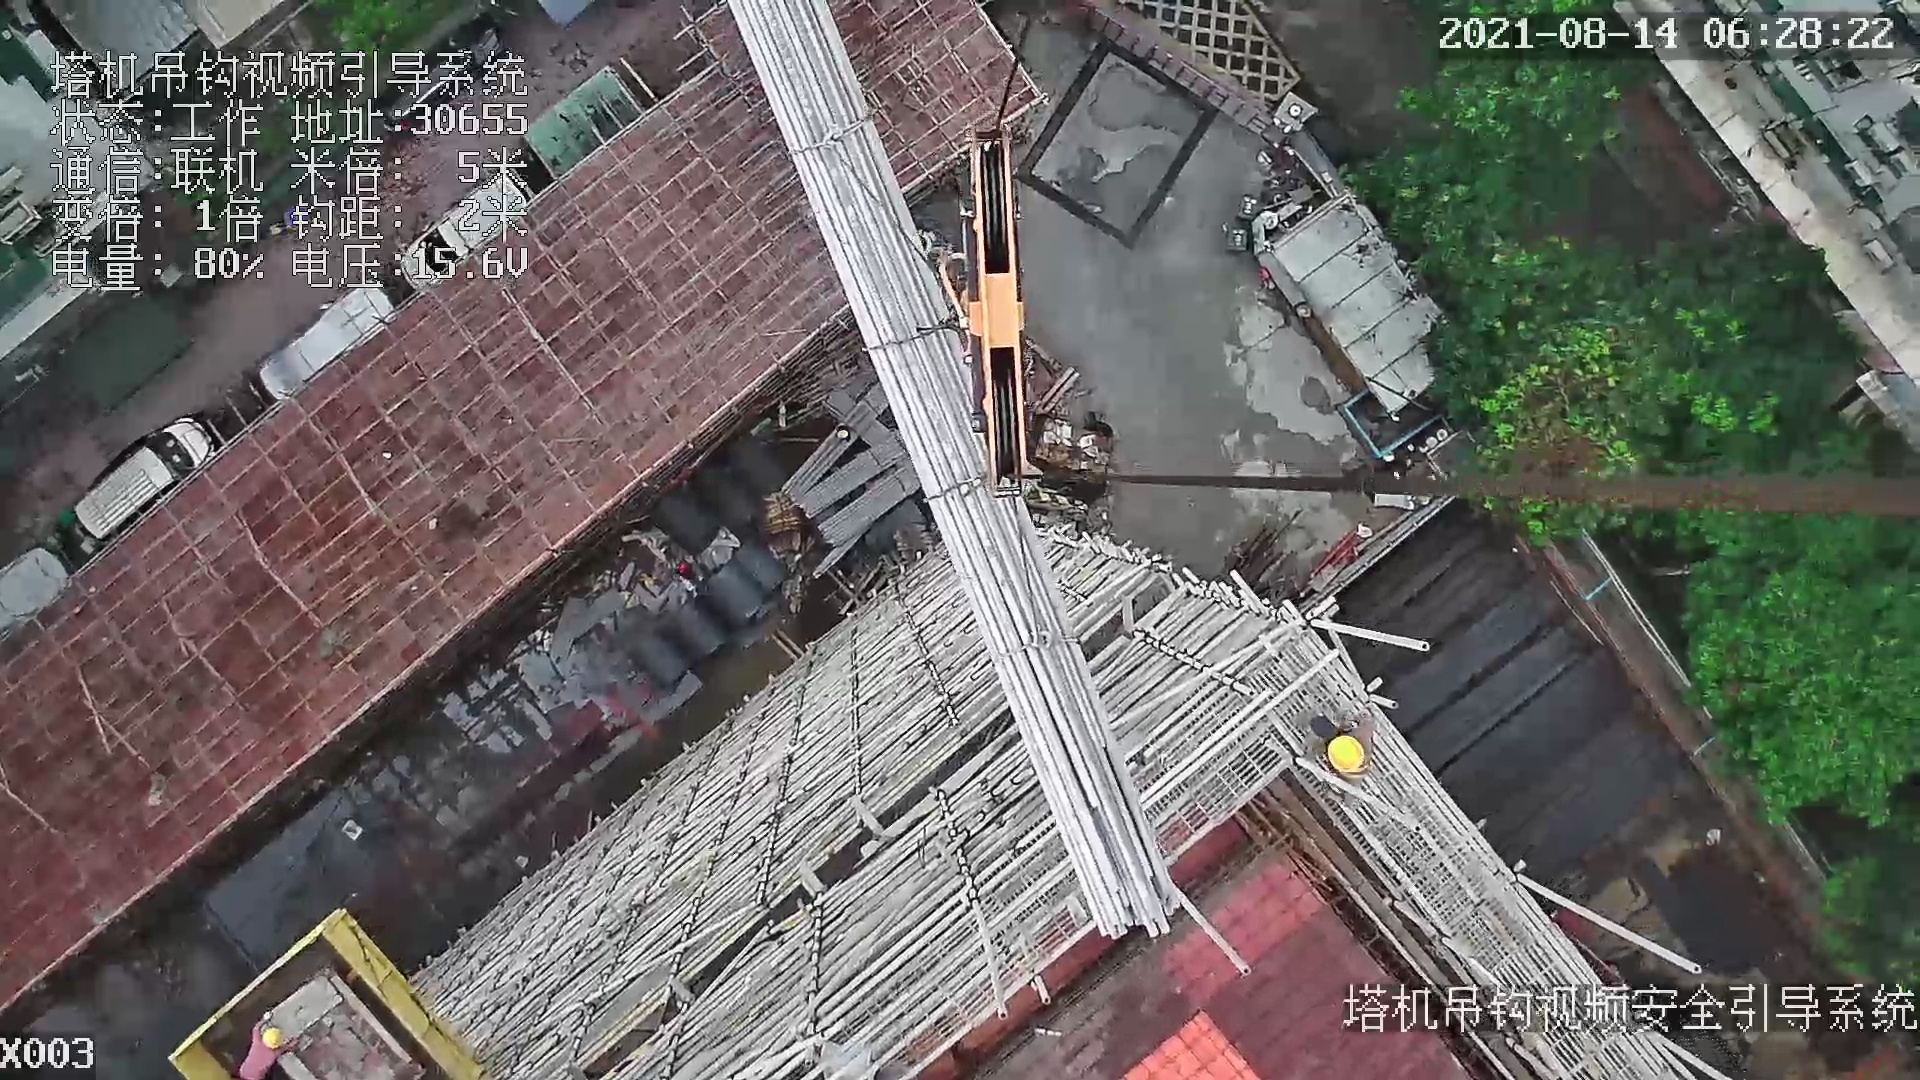helmet: (1326, 725, 1368, 774), (259, 1023, 285, 1048)
hook: (965, 133, 1035, 502)
person: (1305, 712, 1380, 814), (231, 1009, 304, 1074)
